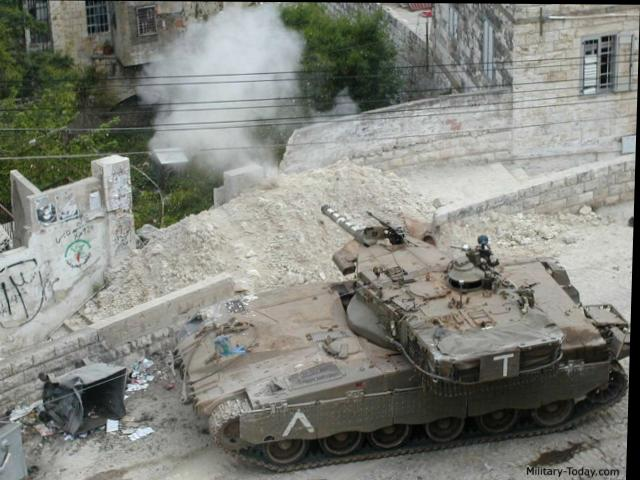other: (457, 217, 508, 260)
tank: (165, 210, 634, 435)
